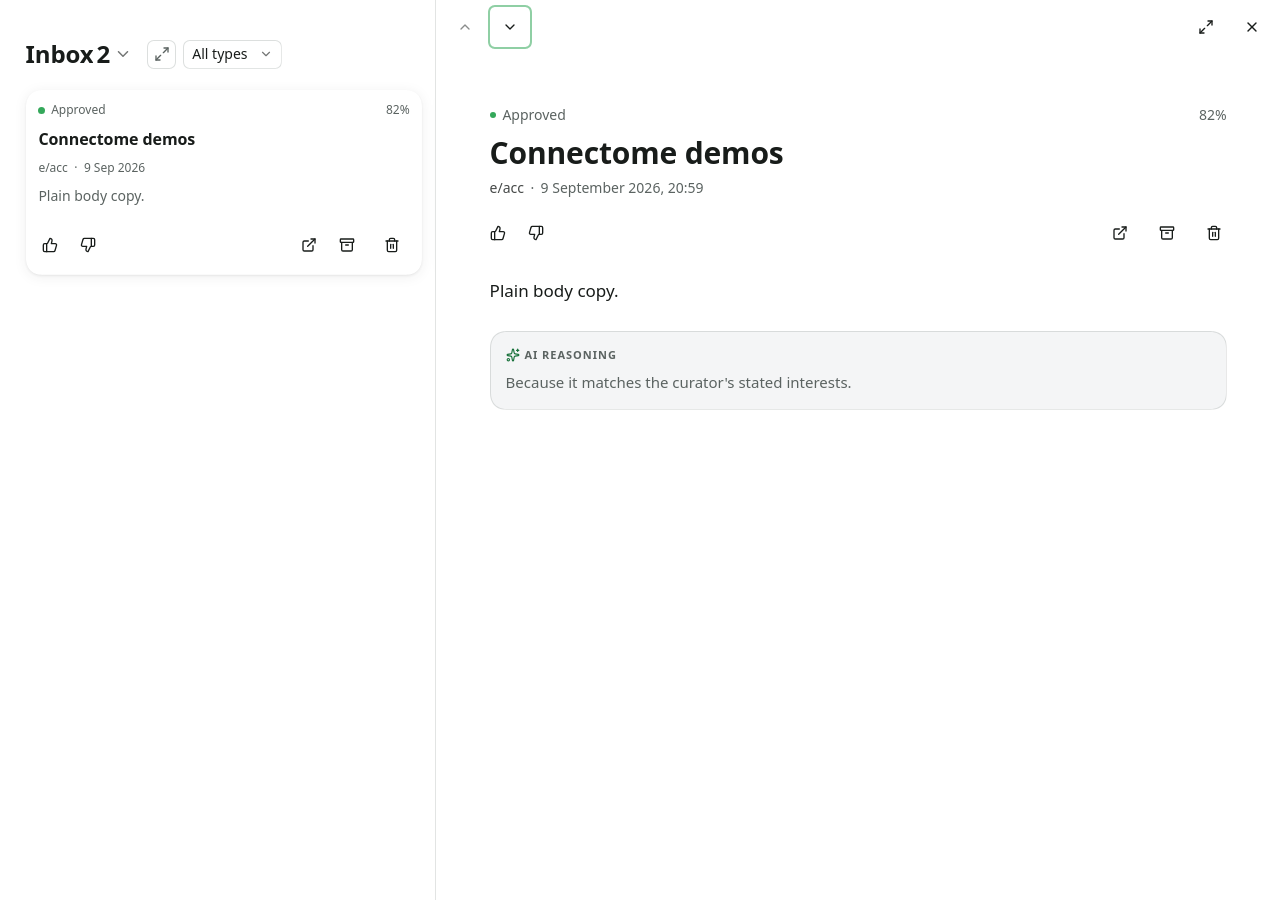
it: URL is the state › opens and closes without adding history entries from a deep link
Expected: the 2nd heading "Connectome demos" is shown, [490, 132, 784, 173]
Click the button named "Close preview": click(1252, 27) [1230, 5, 1274, 49]
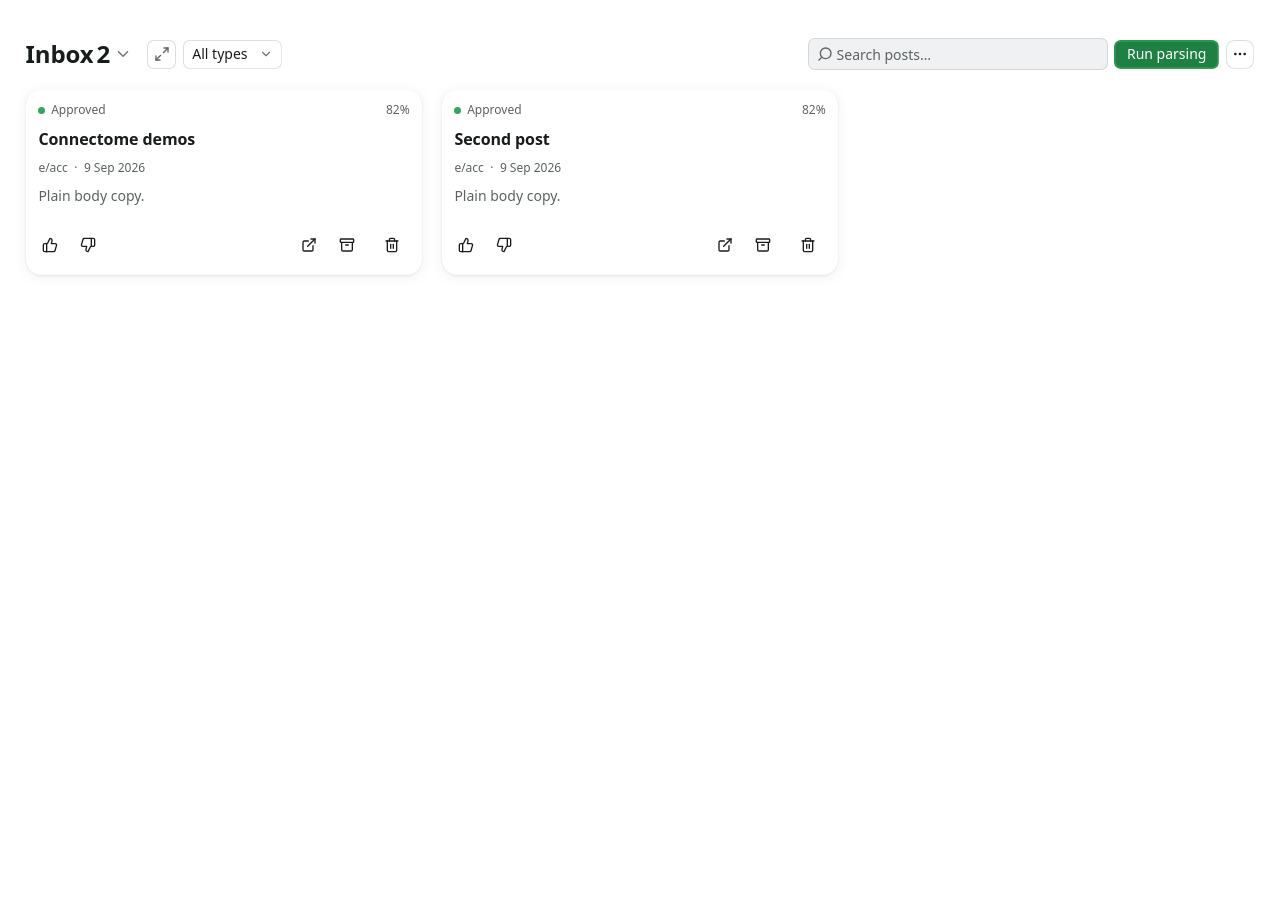
Result: the dialog is gone
